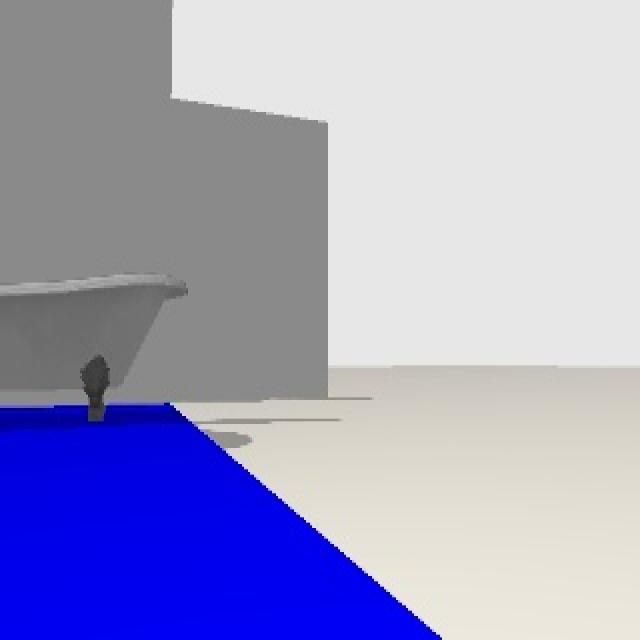bathtub: (0, 272, 190, 424)
